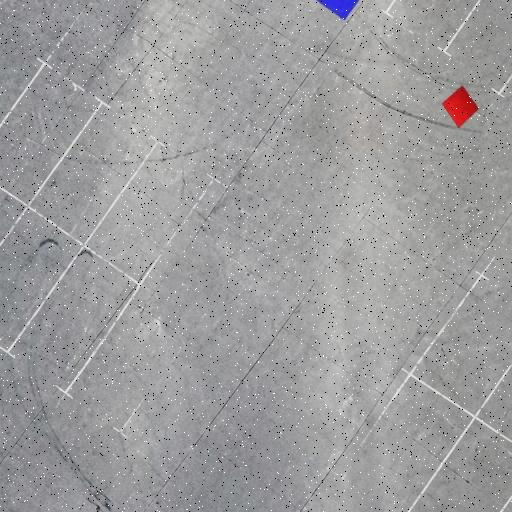RED_SQUARE: (442, 85, 479, 128)
